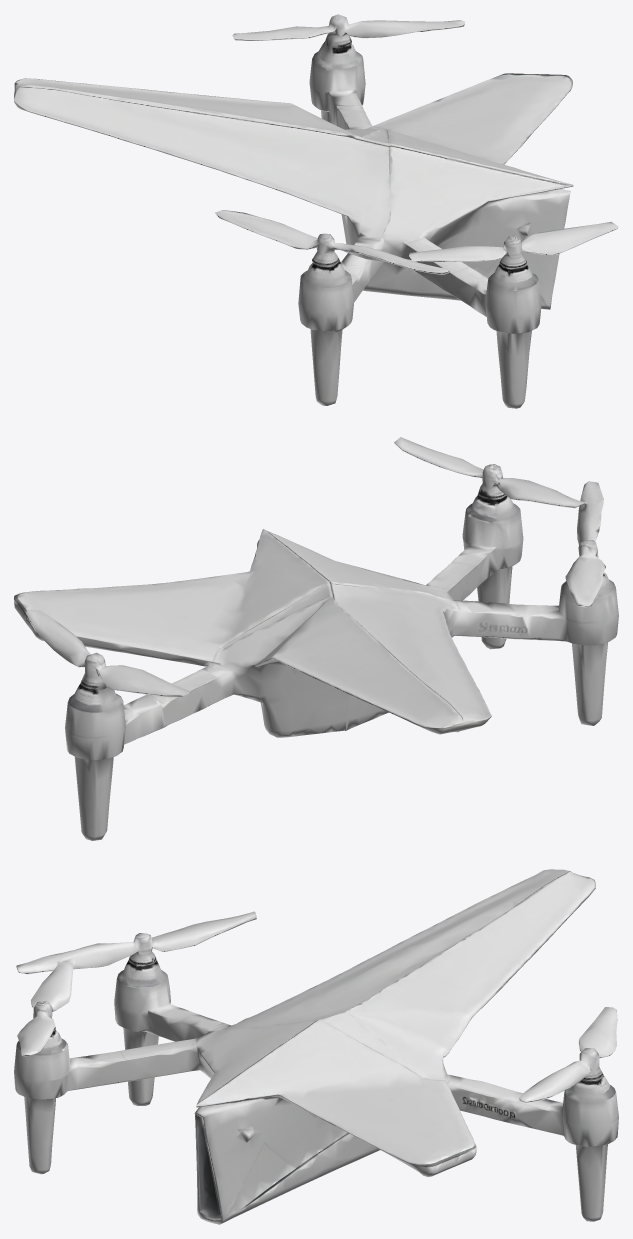
The model's file is drone.glb.
3 renders of one model, top to bottom at view 1: azimuth 30°, elevation 25°; view 2: azimuth 150°, elevation 25°; view 3: azimuth 270°, elevation 25°, orthographic. The views are drawn at different scales.
Visible parts, largest first — view 1: tripo_node_7a34e95a-f195-4b0c-85aa-ee06a3c4d919; view 2: tripo_node_7a34e95a-f195-4b0c-85aa-ee06a3c4d919; view 3: tripo_node_7a34e95a-f195-4b0c-85aa-ee06a3c4d919.
Part boxes in pixels (bbox=[...]): tripo_node_7a34e95a-f195-4b0c-85aa-ee06a3c4d919: bbox=[14, 14, 618, 408]; tripo_node_7a34e95a-f195-4b0c-85aa-ee06a3c4d919: bbox=[14, 437, 618, 840]; tripo_node_7a34e95a-f195-4b0c-85aa-ee06a3c4d919: bbox=[14, 869, 618, 1224].
Size of the model in its own units: 0.8349 by 0.3001 by 0.8737.
1 material, 1 textured.
